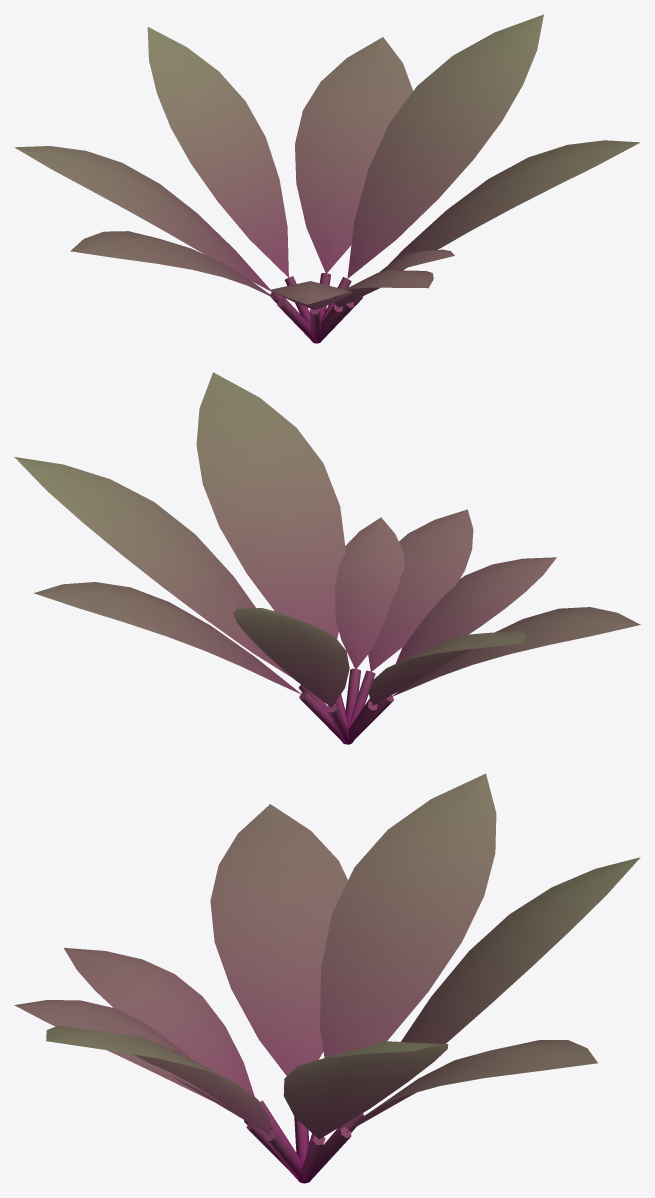
Rendered from broadleaf_01.glb.
3 renders of one model, top to bottom at view 1: azimuth 30°, elevation 25°; view 2: azimuth 150°, elevation 25°; view 3: azimuth 270°, elevation 25°, orthographic. The views are drawn at different scales.
Visible parts, largest first — view 1: broadleaf_01; view 2: broadleaf_01; view 3: broadleaf_01.
Boxes of the visible parts, box(x1,y1,x2,y2) form: broadleaf_01: box(14, 14, 640, 343); broadleaf_01: box(14, 372, 640, 744); broadleaf_01: box(14, 773, 640, 1183).
Size of the model in its own units: 1.41 by 0.5896 by 1.12.
